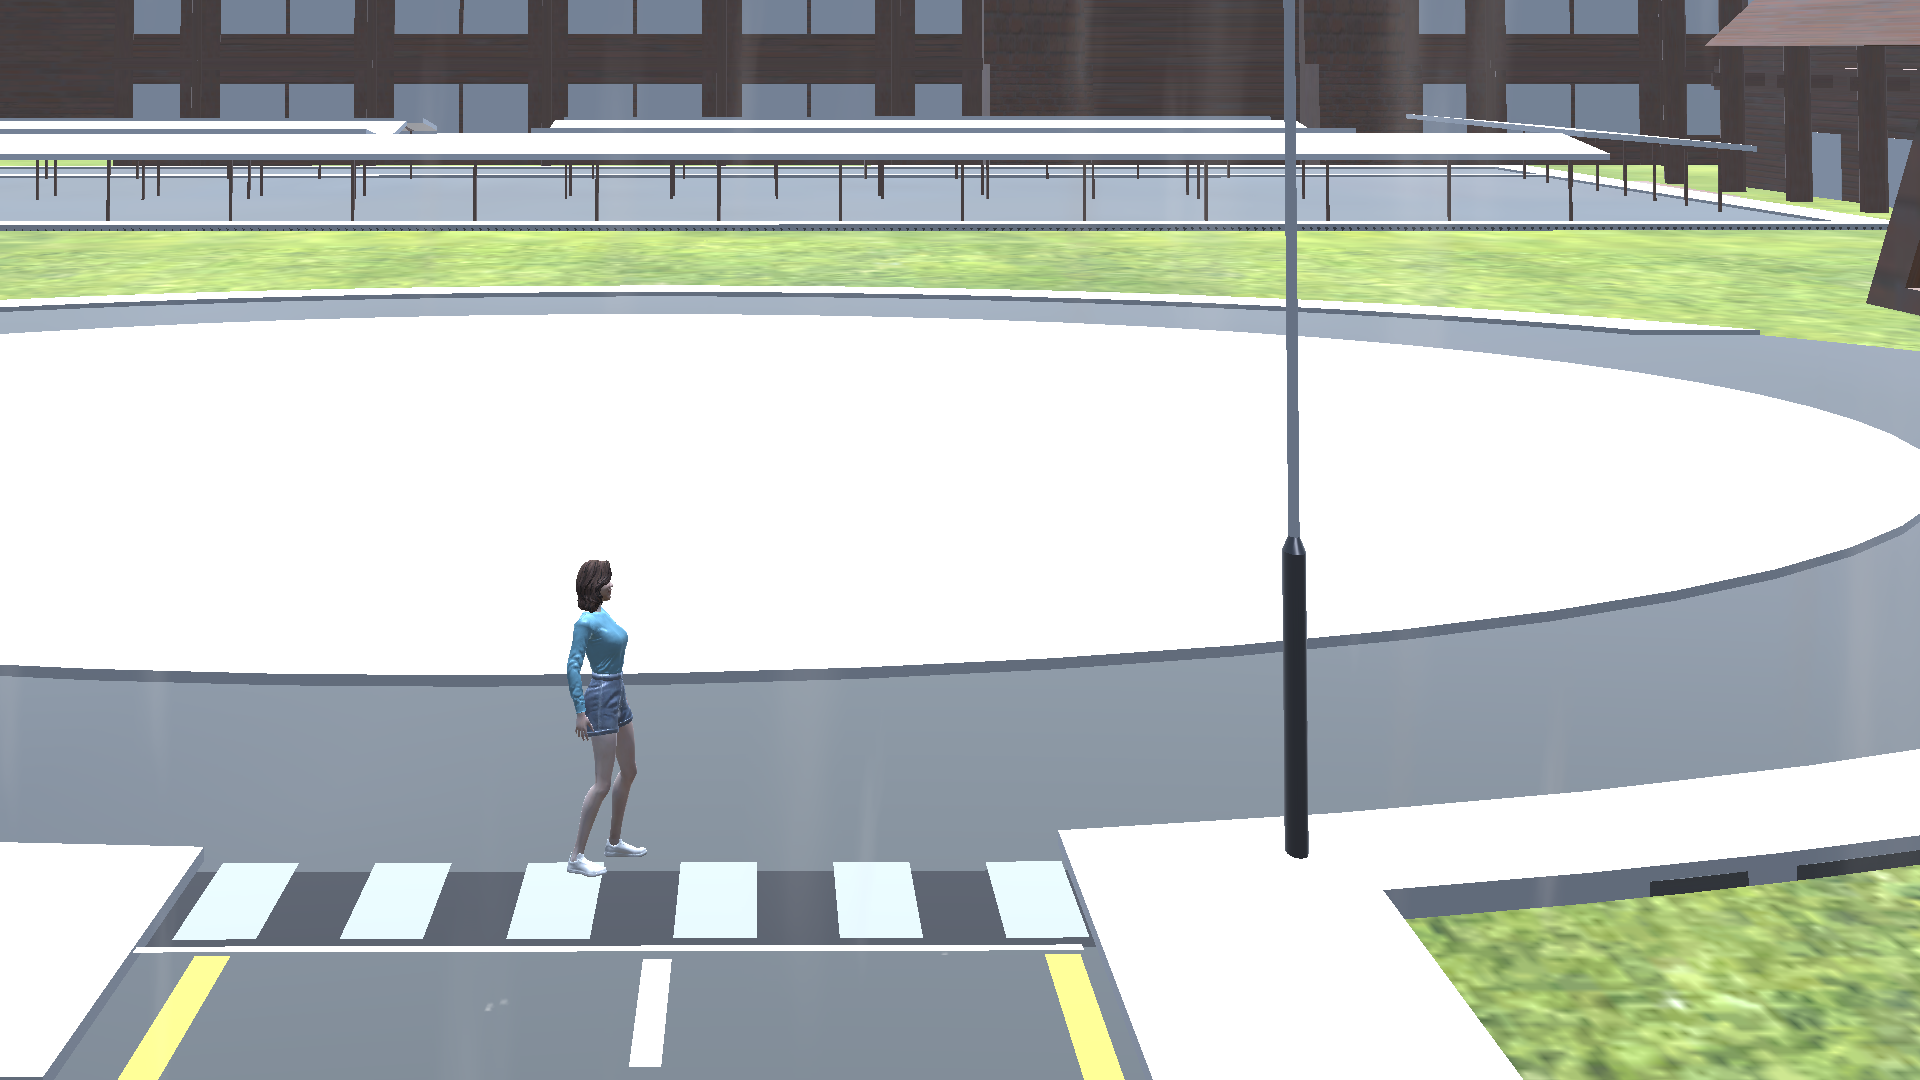pedestrian: (554, 544, 669, 887)
